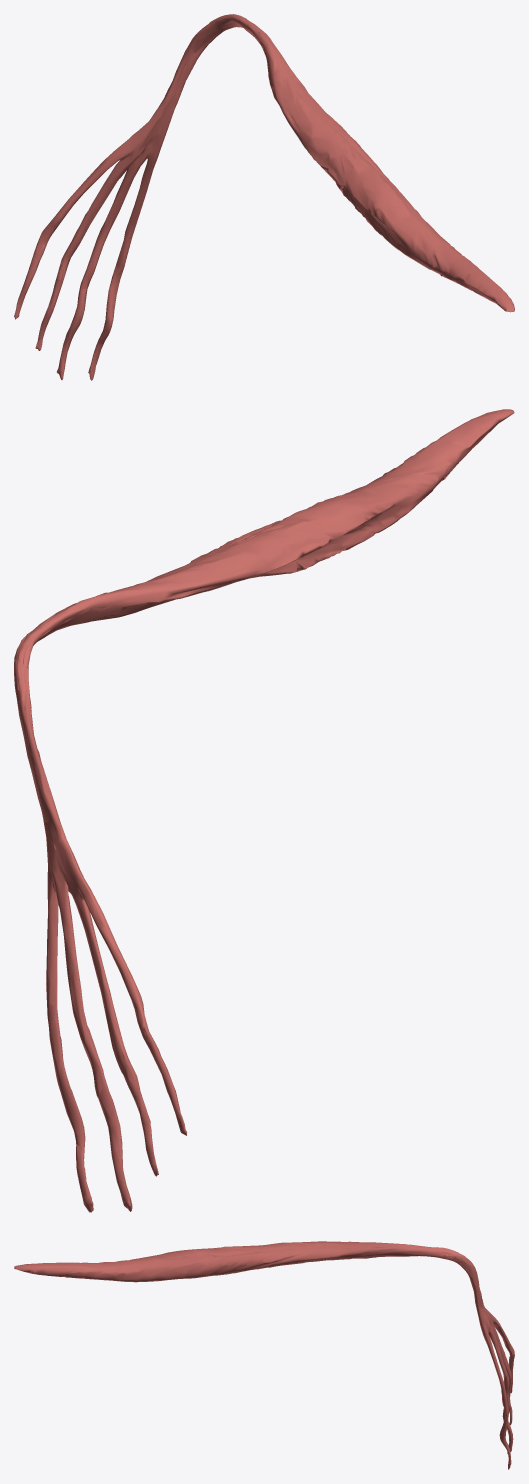
The picture shows the model from 3 angles, top to bottom: view 1: azimuth 30°, elevation 25°; view 2: azimuth 150°, elevation 25°; view 3: azimuth 270°, elevation 25°; orthographic projection. The views are drawn at different scales.
Parts seen in each view (by area): view 1: 右侧趾长屈肌; view 2: 右侧趾长屈肌; view 3: 右侧趾长屈肌.
Boxes of the visible parts, bbox=[...] form: 右侧趾长屈肌: bbox=[14, 14, 514, 380]; 右侧趾长屈肌: bbox=[14, 409, 514, 1212]; 右侧趾长屈肌: bbox=[14, 1241, 514, 1469].
Size of the model in its own units: 0.1393 by 0.2846 by 0.5063.
